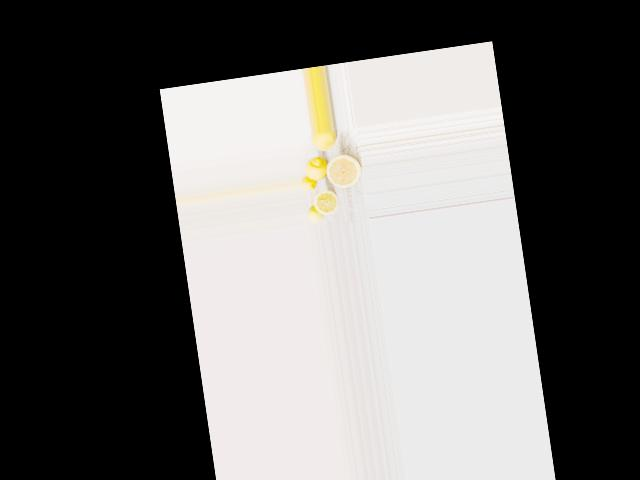lemon: (309, 129, 340, 154)
